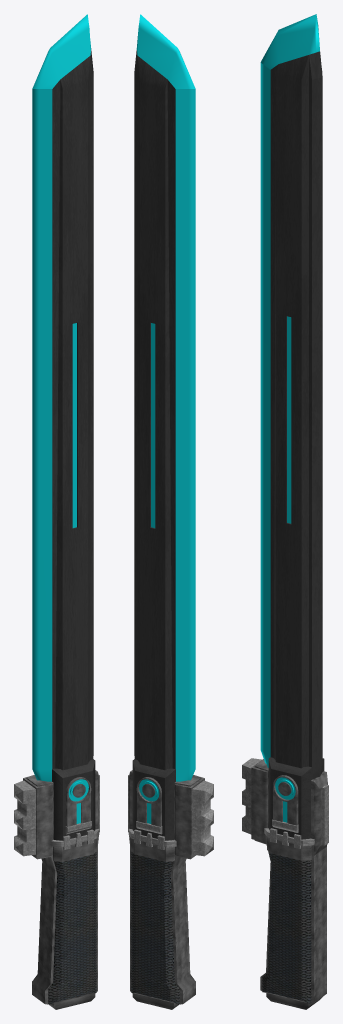
The model's file is FuturisticSword.fbx.
3 renders of one model, left to right at view 1: azimuth 30°, elevation 25°; view 2: azimuth 150°, elevation 25°; view 3: azimuth 330°, elevation 25°, orthographic.
Parts seen in each view (by area): view 1: pasted__pasted__pCube5, polySurface5, pasted__pasted__pasted__pCube5, pCube3, pCube4, polySurface2, pasted__pCube5; view 2: pasted__pasted__pCube5, polySurface5, pasted__pasted__pasted__pCube5, pCube3, pCube4, polySurface2, pasted__pCube5; view 3: pasted__pasted__pCube5, polySurface5, pasted__pasted__pasted__pCube5, pCube4, polySurface2, pCube3, pasted__pCube5.
Boxes of the visible parts, x1,y1,x2,y2 form: pasted__pasted__pCube5: (32,14,93,781); polySurface5: (26,770,99,1009); pasted__pasted__pasted__pCube5: (52,759,95,840); pCube3: (14,780,35,856); pCube4: (23,775,52,858); polySurface2: (66,777,91,826); pasted__pCube5: (51,828,99,847); pasted__pasted__pCube5: (134,14,195,781); polySurface5: (128,770,201,1009); pasted__pasted__pasted__pCube5: (132,759,175,840); pCube3: (192,780,213,856); pCube4: (175,775,204,858); polySurface2: (136,777,161,826); pasted__pCube5: (128,828,176,847); pasted__pasted__pCube5: (260,14,322,779); polySurface5: (254,759,328,1009); pasted__pasted__pasted__pCube5: (268,757,324,839); pCube4: (251,759,267,842); polySurface2: (273,775,298,825); pCube3: (242,758,261,834); pasted__pCube5: (264,828,314,846).
Bounding box in the file's own units: 6.94 × 79.24 × 3.5.
Materials: 6 (4 with a texture image).
